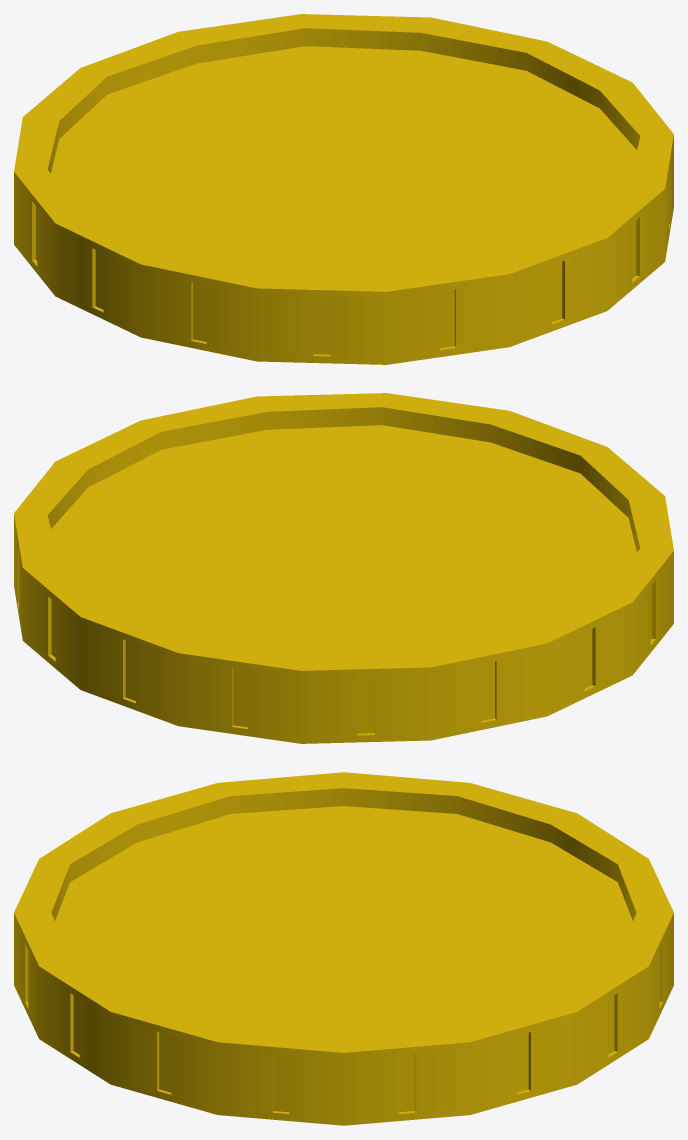
Rendered from coin.fbx.
The picture shows the model from 3 angles, top to bottom: view 1: azimuth 30°, elevation 25°; view 2: azimuth 150°, elevation 25°; view 3: azimuth 270°, elevation 25°; orthographic projection.
Visible parts, largest first — view 1: pCylinder4; view 2: pCylinder4; view 3: pCylinder4.
Part boxes in pixels (bbox=[...]): pCylinder4: bbox=[14, 14, 673, 364]; pCylinder4: bbox=[14, 393, 673, 743]; pCylinder4: bbox=[14, 772, 673, 1125].
Bounding box in the file's own units: 200 × 24.19 × 199.
